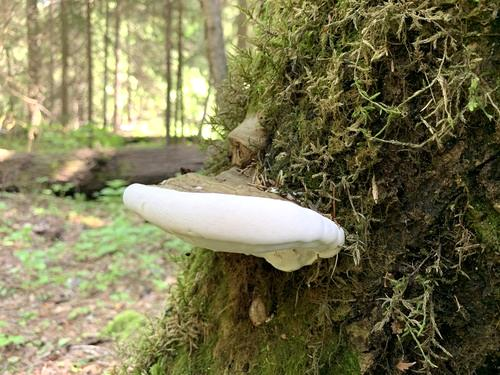Ganoderma - Fruit Body: (123, 169, 344, 277)
